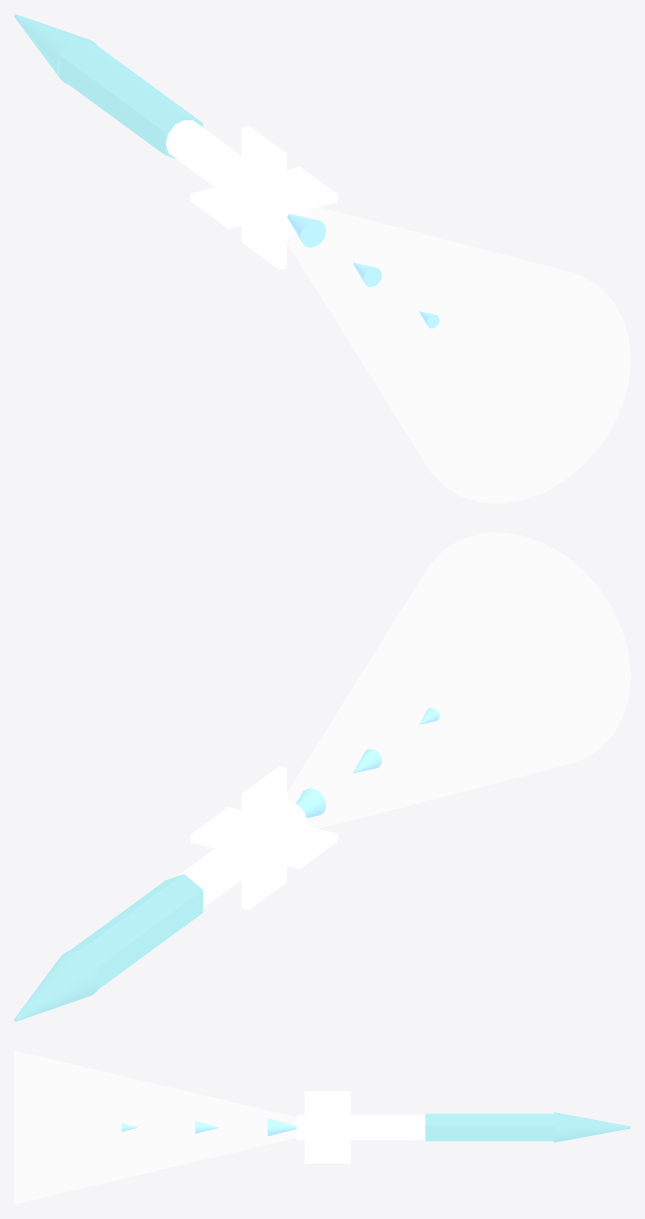
The model's file is projectile_fx.glb.
3 renders of one model, top to bottom at view 1: azimuth 30°, elevation 25°; view 2: azimuth 150°, elevation 25°; view 3: azimuth 270°, elevation 25°, orthographic. The views are drawn at different scales.
Parts seen in each view (by area): view 1: VaporCone, RailSlug, BeamBolt; view 2: VaporCone, RailSlug, BeamBolt; view 3: VaporCone, RailSlug, BeamBolt.
Part boxes in pixels (x1,y1,x2,y2): VaporCone: (275, 201, 630, 503); RailSlug: (166, 120, 337, 269); BeamBolt: (14, 14, 439, 328); VaporCone: (287, 532, 630, 828); RailSlug: (178, 766, 337, 909); BeamBolt: (14, 707, 439, 1021); VaporCone: (14, 1050, 296, 1204); RailSlug: (296, 1091, 425, 1163); BeamBolt: (121, 1112, 630, 1142).
Size of the model in its own units: 0.6 by 0.6 by 2.4.
